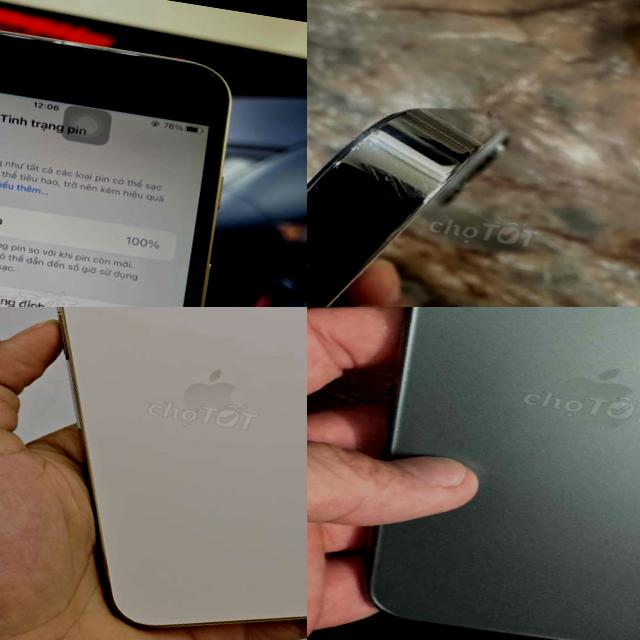gen_11: (333, 307, 640, 640)
gen_12_13: (57, 307, 307, 627)
gen_14: (307, 49, 541, 307)
gen_7_8: (0, 4, 250, 307)
scratch: (336, 134, 480, 226), (180, 57, 223, 79)
